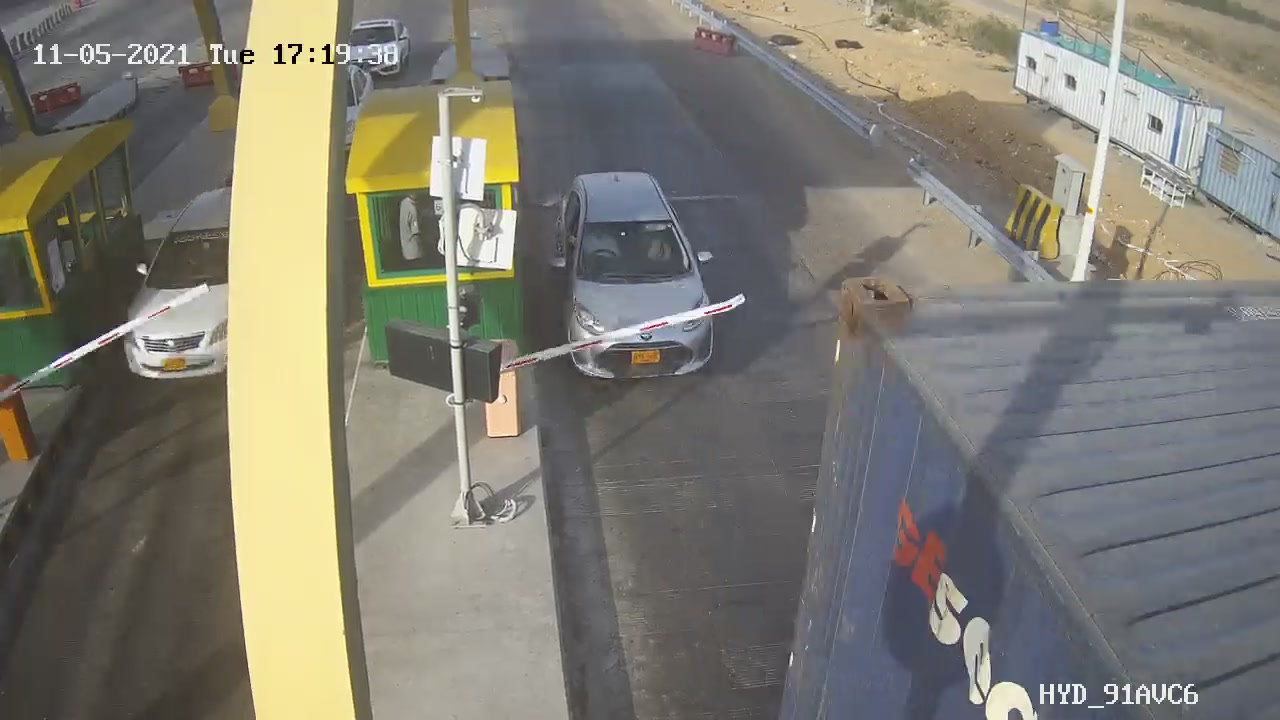F1: (531, 155, 739, 403)
